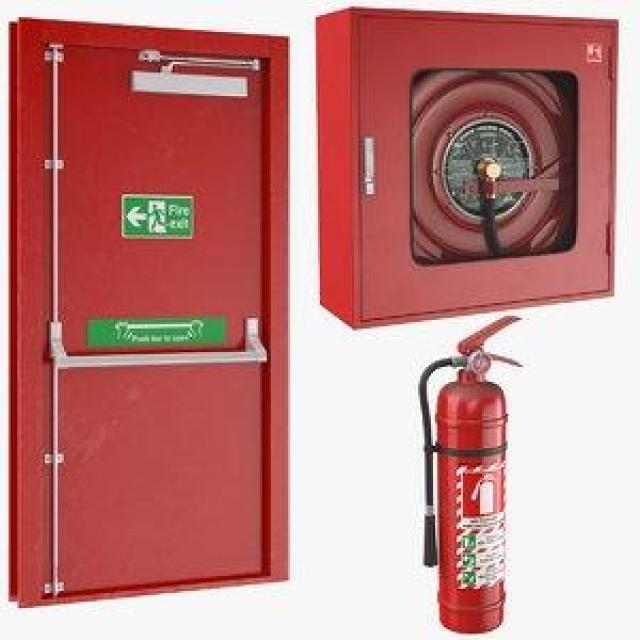fire_extinguisher: (404, 309, 528, 634)
